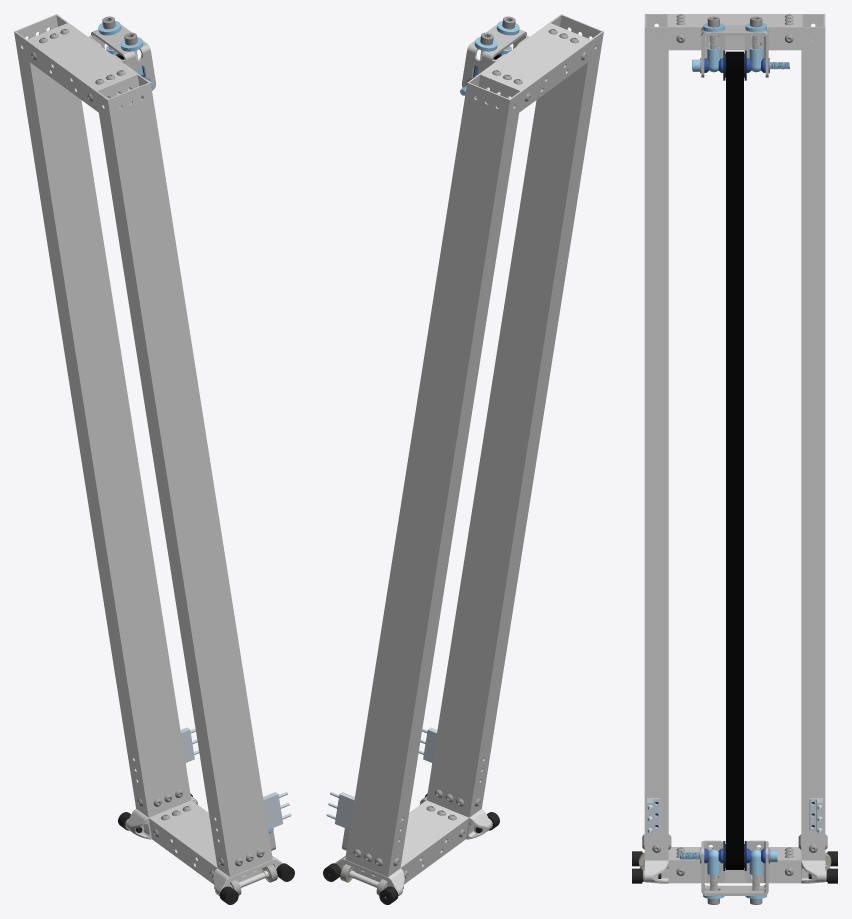
3 renders of one model, left to right at view 1: azimuth 30°, elevation 25°; view 2: azimuth 150°, elevation 25°; view 3: azimuth 270°, elevation 25°, orthographic. The views are drawn at different scales.
Visible parts, largest first — view 1: W25-EVS2-BT002 (×2), W25-EVS2-BT004, W25-EVS2-BT003, SDS Elevator Block (×2), W25-EVS2-P000, 25 Chain Attachment Part (ELEV-DRIVE-001); view 2: W25-EVS2-BT002 (×2), W25-EVS2-BT004, W25-EVS2-BT003, SDS Elevator Block (×2), W25-EVS2-P000, 25 Chain Attachment Part (ELEV-DRIVE-001); view 3: W25-EVS2-BT002 (×2), W25-EVS2-MISC000, W25-EVS2-BT004, W25-EVS2-P000 (×2), W25-EVS2-BT003, SDS Elevator Block (×2), 25 Chain Attachment Part (ELEV-DRIVE-001) (×2).
Boxes of the visible parts, left/top/right/bottom form: W25-EVS2-BT002 (×2): left=14, top=14, right=272, bottom=876; W25-EVS2-BT004: left=26, top=23, right=137, bottom=112; W25-EVS2-BT003: left=148, top=800, right=217, bottom=884; SDS Elevator Block (×2): left=118, top=793, right=294, bottom=904; W25-EVS2-P000: left=89, top=24, right=156, bottom=89; 25 Chain Attachment Part (ELEV-DRIVE-001): left=263, top=792, right=291, bottom=829; W25-EVS2-BT002 (×2): left=345, top=14, right=603, bottom=876; W25-EVS2-BT004: left=480, top=23, right=591, bottom=112; W25-EVS2-BT003: left=400, top=800, right=469, bottom=884; SDS Elevator Block (×2): left=323, top=793, right=499, bottom=904; W25-EVS2-P000: left=461, top=24, right=528, bottom=87; 25 Chain Attachment Part (ELEV-DRIVE-001): left=326, top=792, right=354, bottom=829; W25-EVS2-BT002 (×2): left=644, top=14, right=825, bottom=860; W25-EVS2-MISC000: left=726, top=51, right=743, bottom=869; W25-EVS2-BT004: left=668, top=14, right=801, bottom=50; W25-EVS2-P000 (×2): left=701, top=25, right=768, bottom=895; W25-EVS2-BT003: left=668, top=847, right=801, bottom=883; SDS Elevator Block (×2): left=632, top=851, right=837, bottom=883; 25 Chain Attachment Part (ELEV-DRIVE-001) (×2): left=647, top=798, right=822, bottom=834.
Size of the model in its own units: 0.2332 by 0.9615 by 0.2172.
